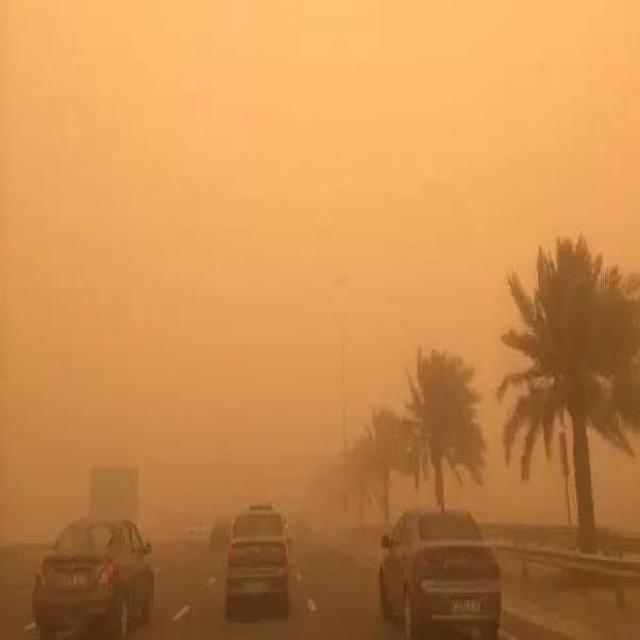Car: (377, 507, 504, 640), (32, 511, 153, 640), (222, 505, 296, 613)
